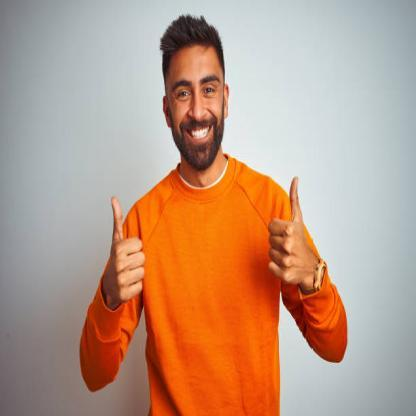thumb_up: (264, 170, 306, 288), (109, 193, 146, 304)
